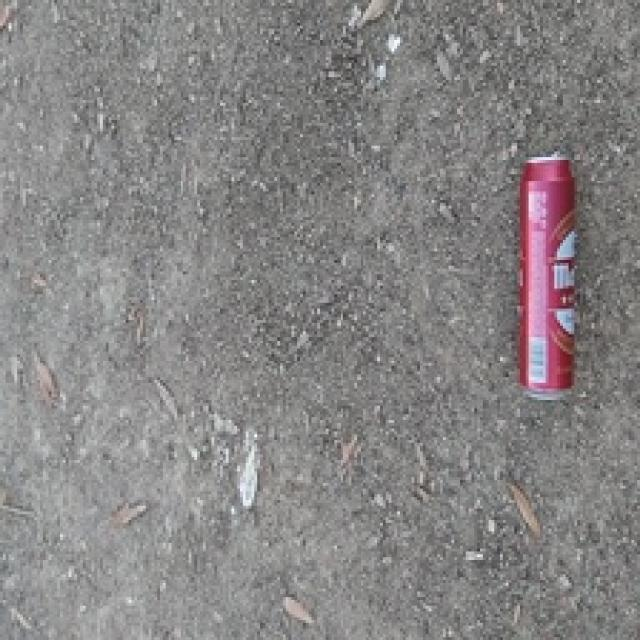recyclable: (518, 154, 578, 401)
